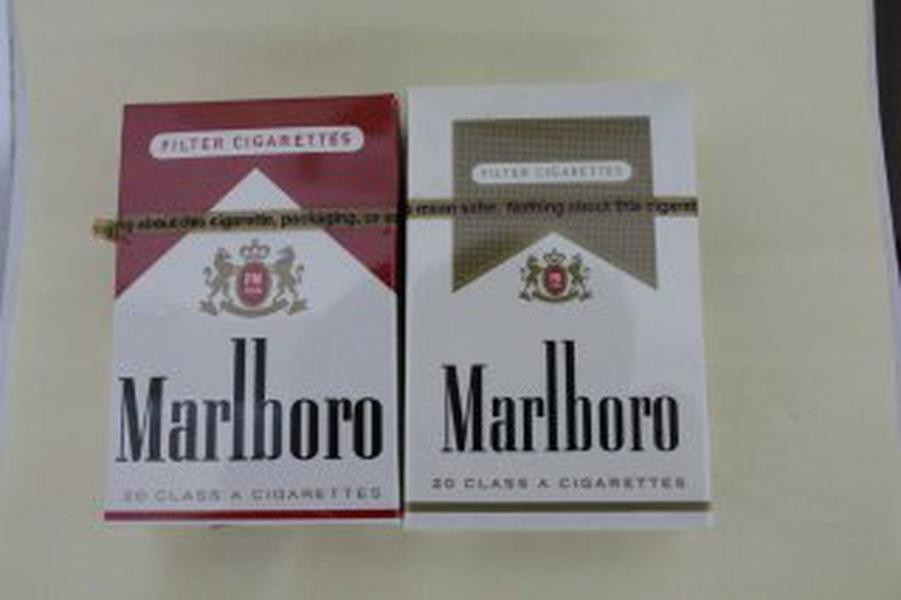marlboro_red: (111, 101, 396, 521)
